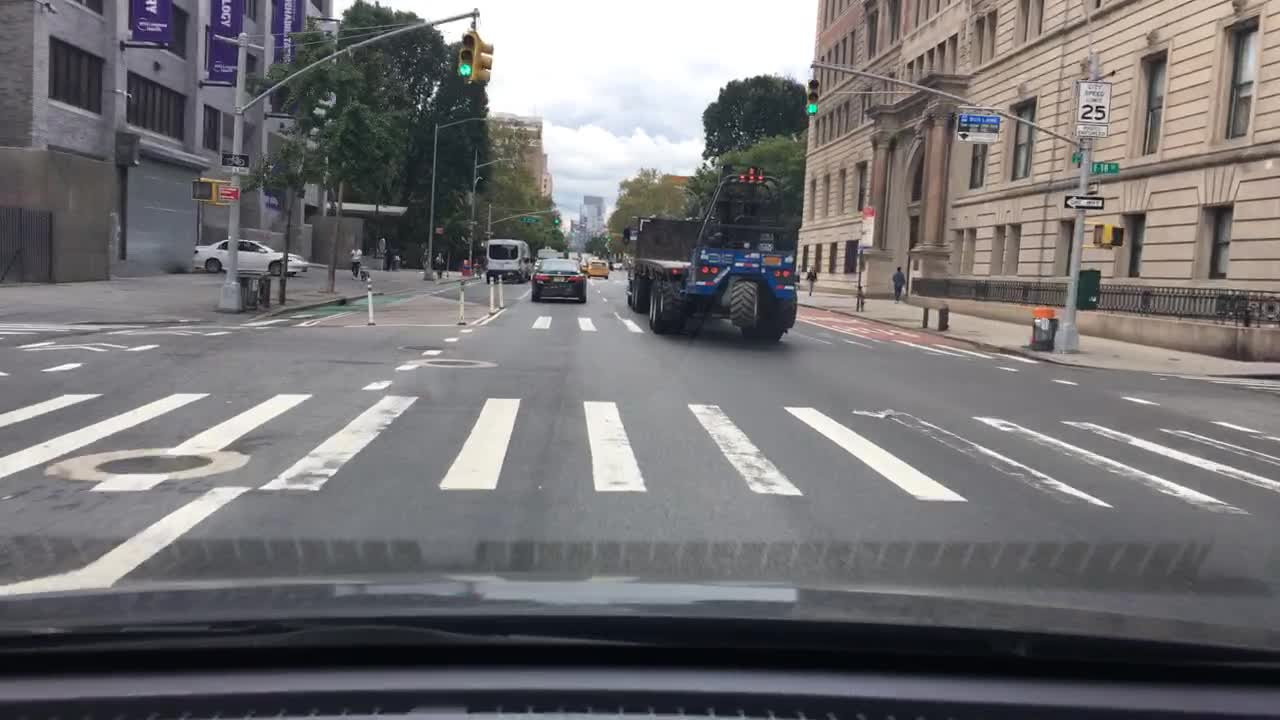car: (187, 235, 310, 276), (529, 255, 588, 301), (485, 237, 529, 284), (588, 258, 611, 279), (537, 245, 565, 259), (607, 253, 626, 269), (578, 251, 590, 268)
person: (889, 263, 905, 303), (348, 242, 363, 279), (802, 261, 818, 295), (434, 250, 447, 280), (418, 240, 429, 273)
traffic light: (458, 33, 477, 83), (188, 174, 217, 201), (1092, 224, 1123, 248), (805, 80, 821, 117), (482, 41, 496, 82), (622, 225, 632, 246), (552, 216, 561, 230)
traffic sign: (954, 114, 1006, 140), (1080, 80, 1113, 117), (1072, 155, 1120, 173), (219, 152, 253, 173), (858, 207, 875, 248), (1066, 193, 1103, 211), (1074, 121, 1113, 137), (512, 213, 543, 225), (219, 186, 242, 199), (434, 227, 448, 236)
truck: (625, 166, 801, 343)
